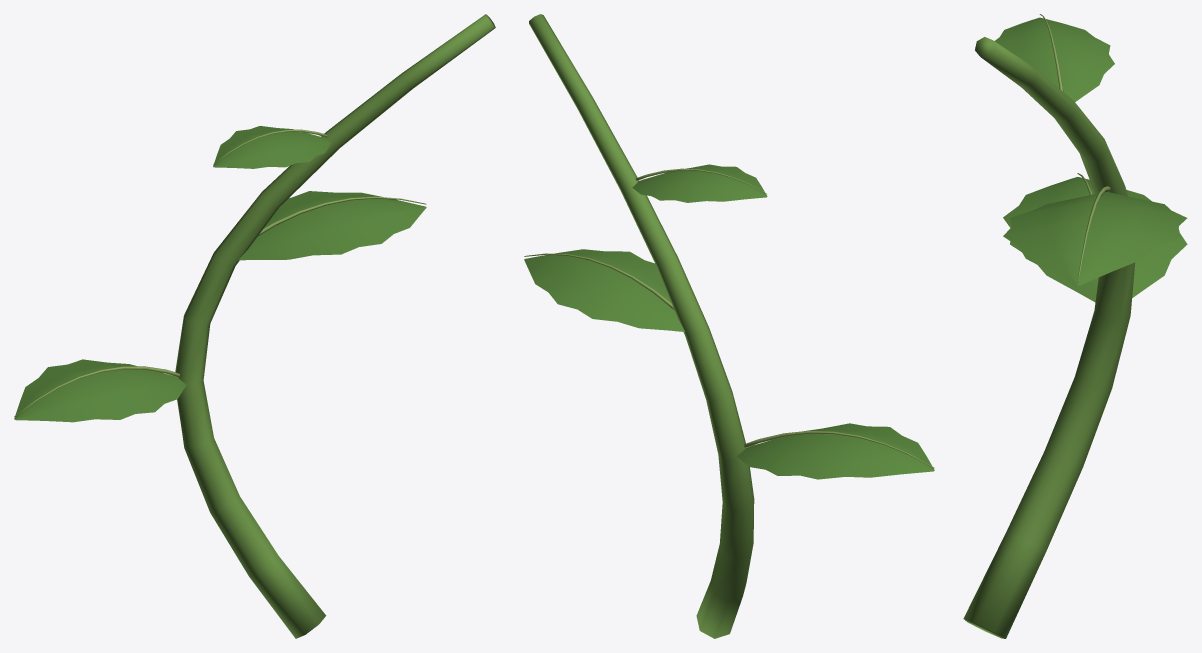
File: sunflower-test-leaves-2.glb
3 renders of one model, left to right at view 1: azimuth 30°, elevation 25°; view 2: azimuth 150°, elevation 25°; view 3: azimuth 270°, elevation 25°, orthographic. The views are drawn at different scales.
Visible parts, largest first — view 1: Curved tapered stem; view 2: Curved tapered stem; view 3: Curved tapered stem.
Boxes of the visible parts, left/top/right/bottom form: Curved tapered stem: left=14, top=14, right=495, bottom=638; Curved tapered stem: left=524, top=14, right=934, bottom=638; Curved tapered stem: left=963, top=14, right=1187, bottom=638.
Size of the model in its own units: 0.234 by 0.2917 by 0.0834.
